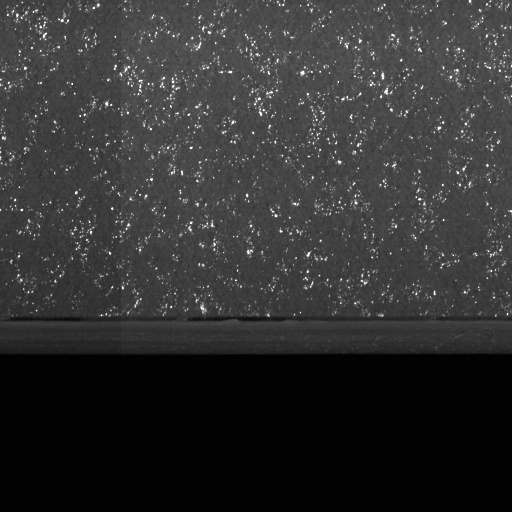jiaofeng: (185, 314, 300, 323), (8, 314, 87, 324)
